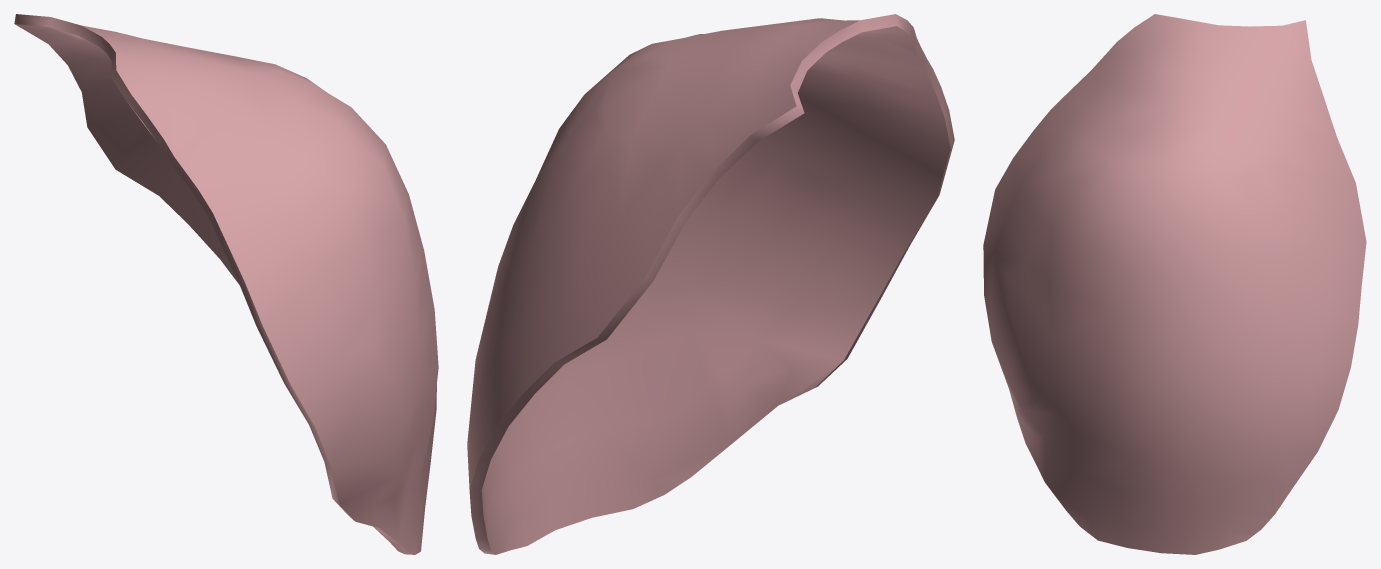
3 views of the same model, side by side, from view 1: azimuth 30°, elevation 25°; view 2: azimuth 150°, elevation 25°; view 3: azimuth 270°, elevation 25° (orthographic). The views are drawn at different scales.
Visible parts, largest first — view 1: ZA_28454531410f7cbf; view 2: ZA_28454531410f7cbf; view 3: ZA_28454531410f7cbf.
Boxes of the visible parts, x1,y1,x2,y2 form: ZA_28454531410f7cbf: (14,14,438,554); ZA_28454531410f7cbf: (467,14,954,554); ZA_28454531410f7cbf: (983,14,1366,554).
Bounding box in the file's own units: 0.1082 × 0.1628 × 0.1338.
